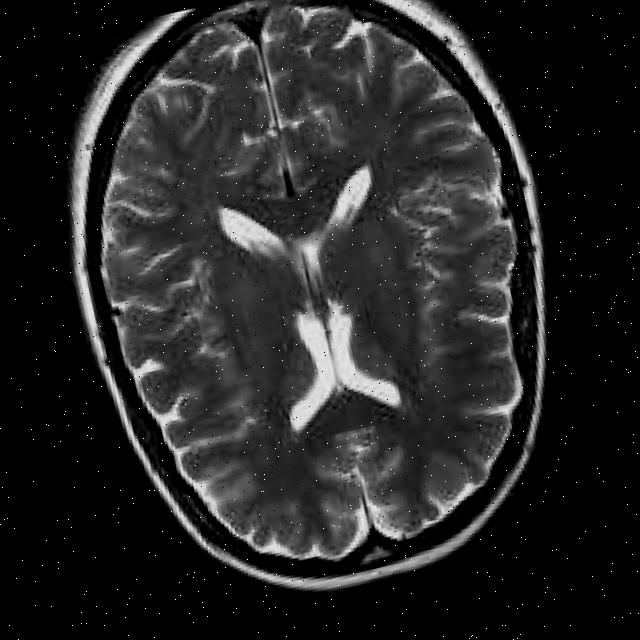NoTumor: (7, 0, 624, 640)
